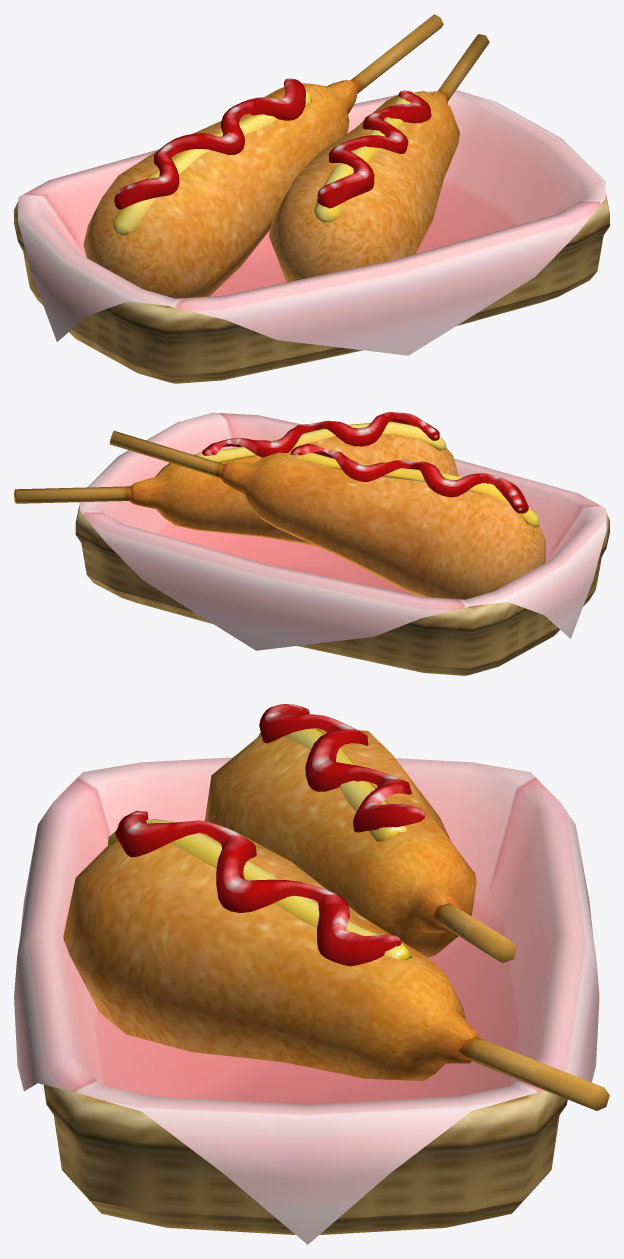
File: banderilla.glb
3 views of the same model, one above another, from view 1: azimuth 30°, elevation 25°; view 2: azimuth 150°, elevation 25°; view 3: azimuth 270°, elevation 25° (orthographic). The views are drawn at different scales.
Parts seen in each view (by area): view 1: M_Re_basket_00_01, M_Re_022_00, M_Re_basket_00_00, M_Re_022_01; view 2: M_Re_basket_00_01, M_Re_022_00, M_Re_basket_00_00, M_Re_022_01; view 3: M_Re_basket_00_01, M_Re_022_00, M_Re_basket_00_00, M_Re_022_01.
Part boxes in pixels (left/top/right/bottom): M_Re_basket_00_01: left=17, top=90, right=605, bottom=355; M_Re_022_00: left=83, top=14, right=489, bottom=298; M_Re_basket_00_00: left=14, top=194, right=609, bottom=383; M_Re_022_01: left=113, top=78, right=431, bottom=235; M_Re_basket_00_01: left=79, top=412, right=606, bottom=650; M_Re_022_00: left=14, top=431, right=545, bottom=599; M_Re_basket_00_00: left=75, top=505, right=609, bottom=675; M_Re_022_01: left=196, top=412, right=539, bottom=527; M_Re_basket_00_01: left=14, top=757, right=599, bottom=1244; M_Re_022_00: left=63, top=728, right=609, bottom=1110; M_Re_basket_00_00: left=43, top=1085, right=567, bottom=1234; M_Re_022_01: left=108, top=704, right=424, bottom=966.
Size of what is drawn, in the model's own units: 18.94 by 6.21 by 12.23.
Materials: 4 (4 with a texture image).
